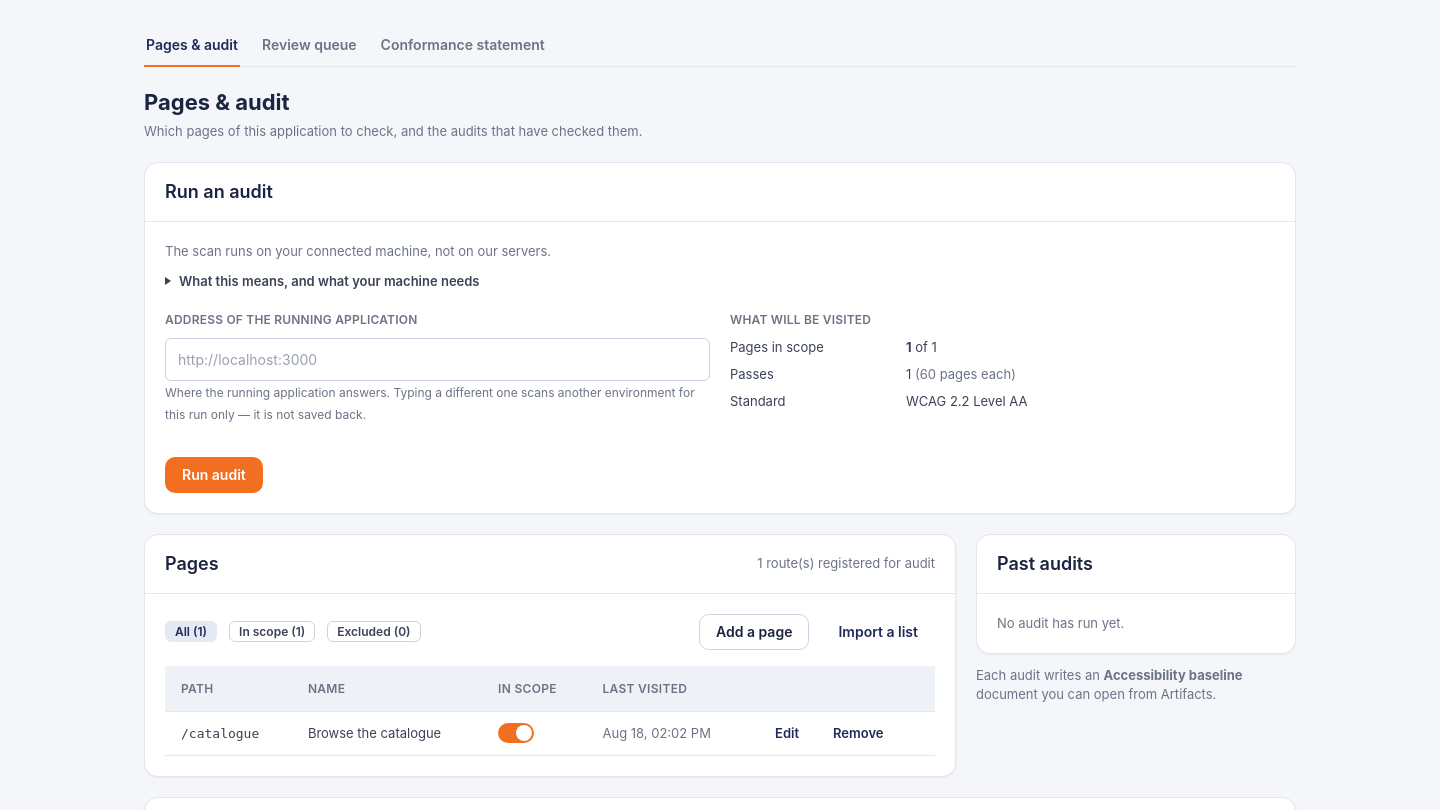
S-38 adding pages › shows what a paste would do before writing any of it
Click the button "Import a list": (878, 632) top-left (821, 614), bottom-right (935, 650)
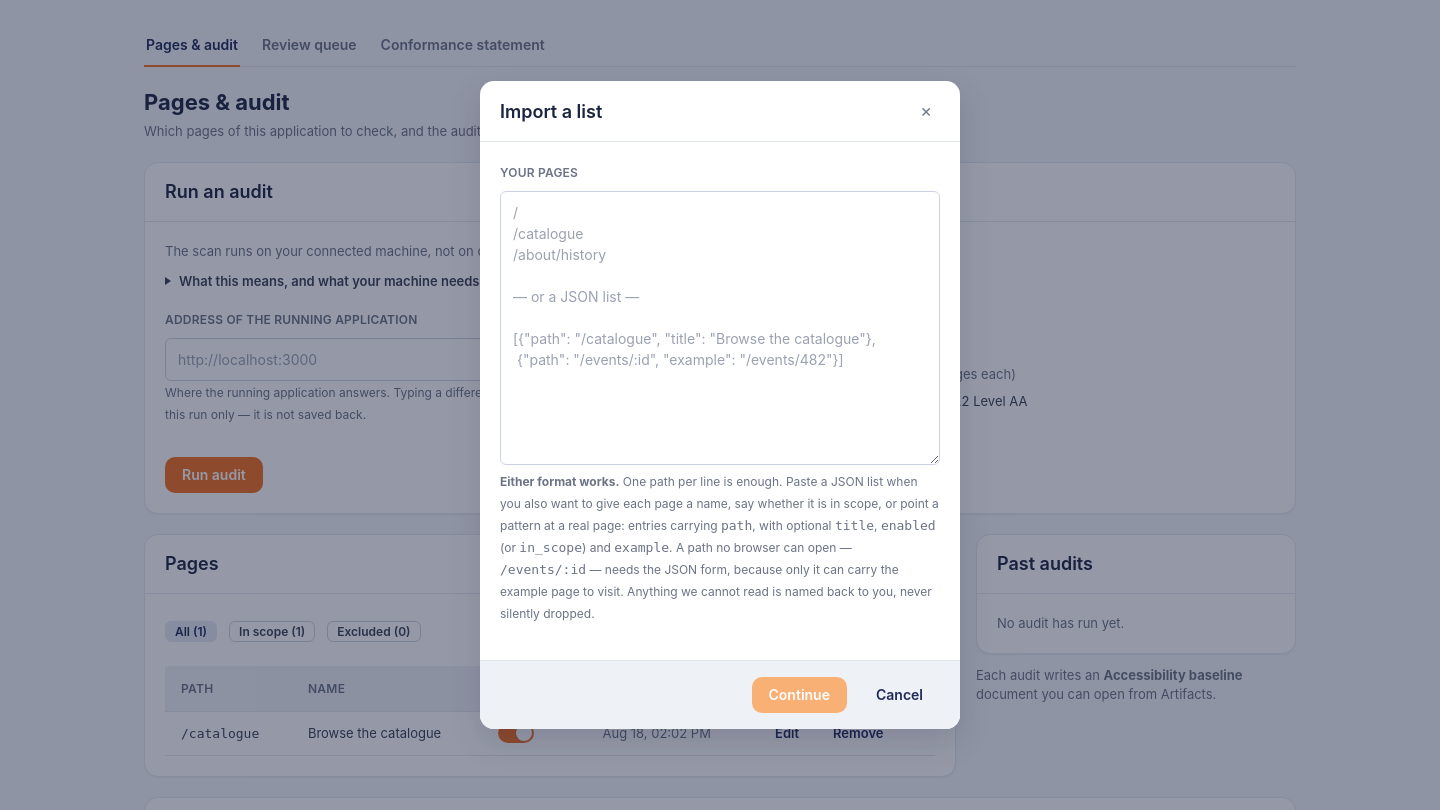
Click the text box labelled "Your pages": (720, 328) top-left (500, 191), bottom-right (940, 465)
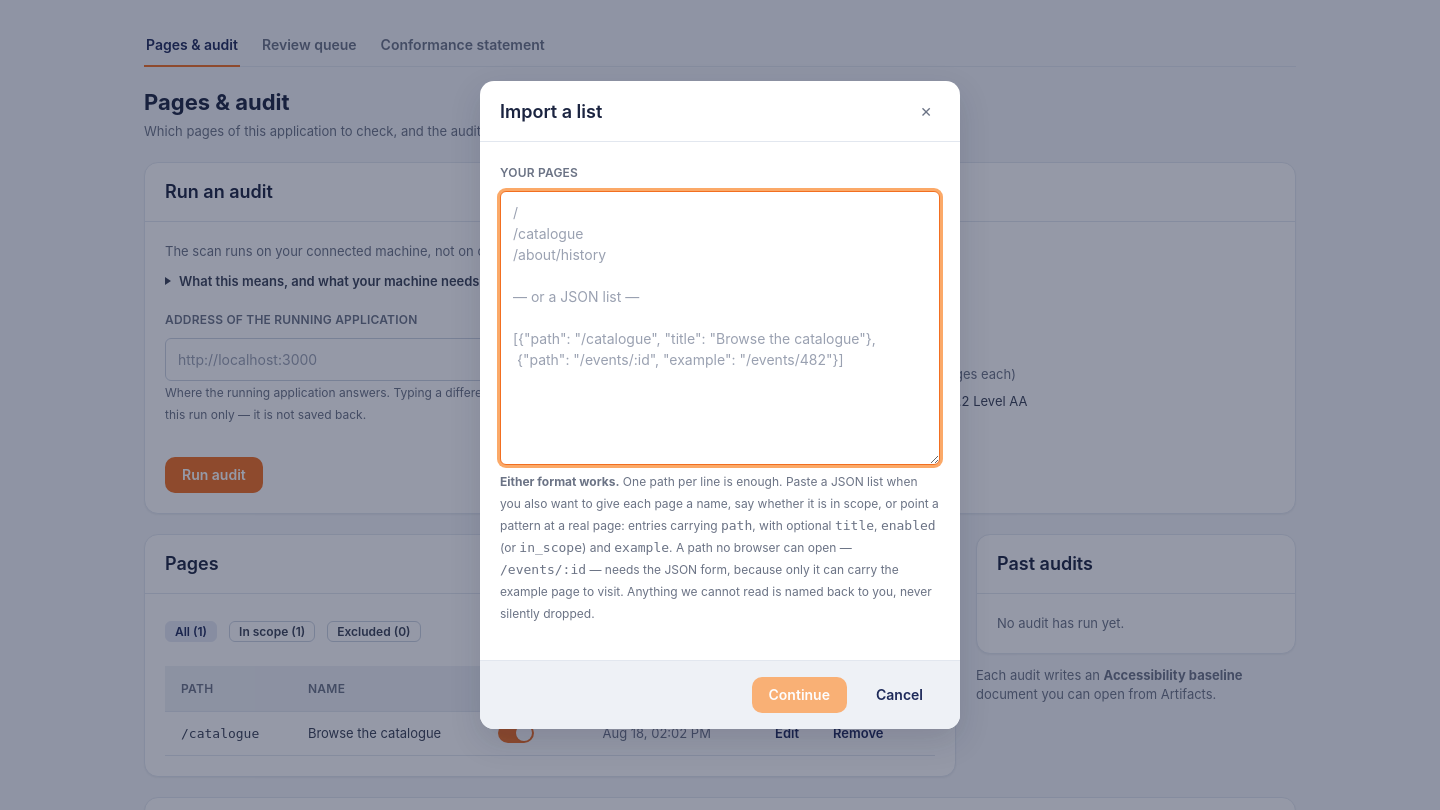
Type keys "[\"/\", \"/account/holds\", \"/catalogue/results\"]"
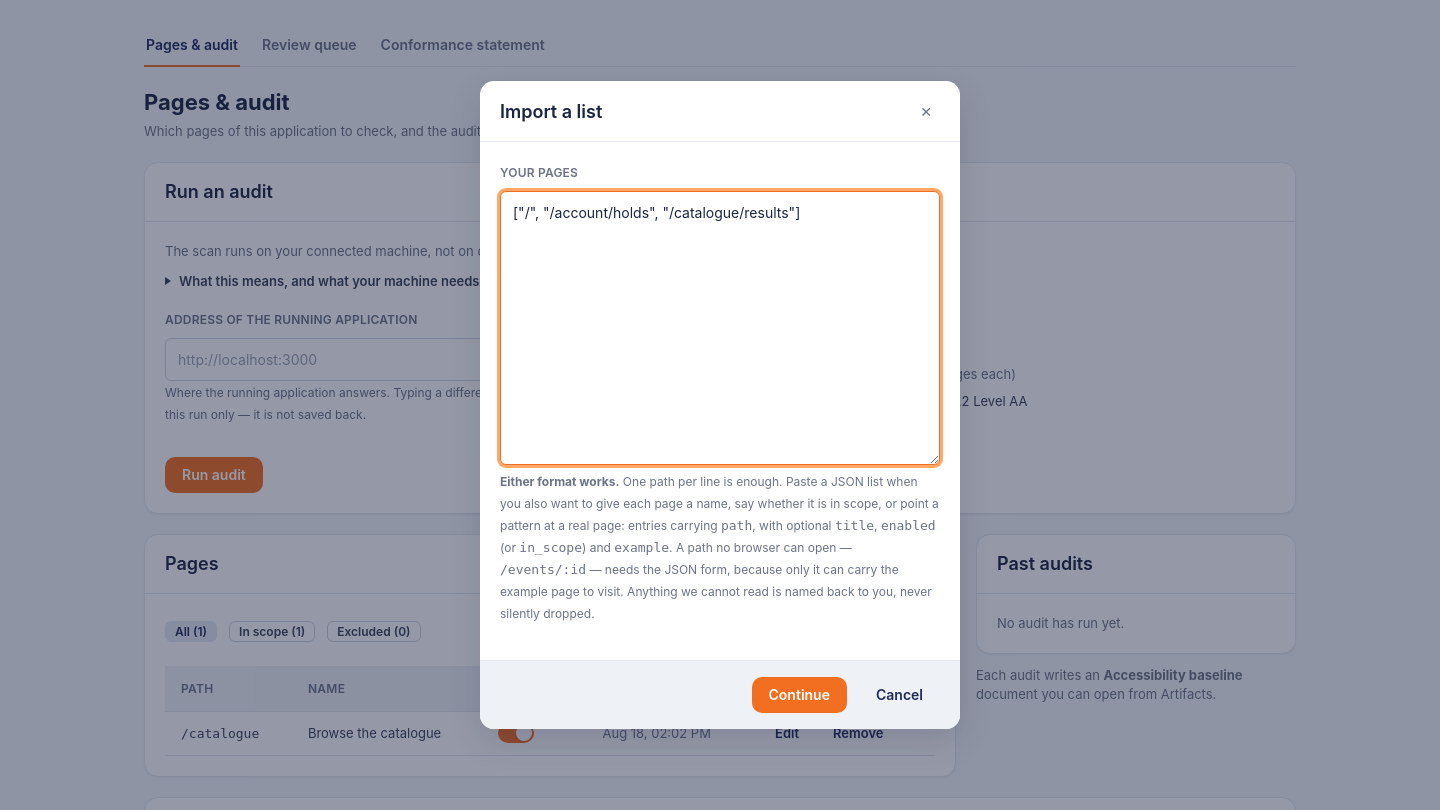
Click the button "Continue": (799, 695) top-left (752, 677), bottom-right (847, 713)
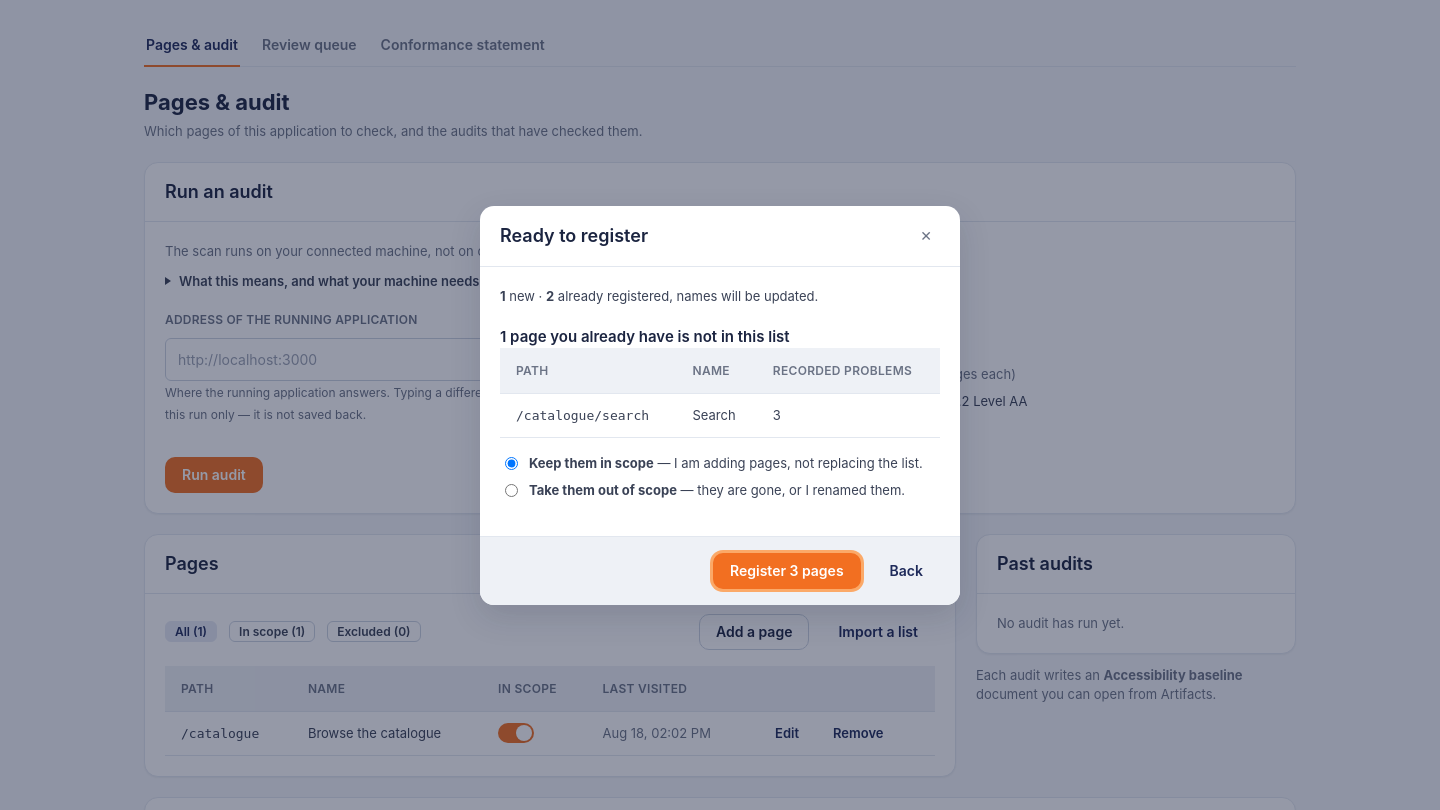
Expected: the text "/catalogue/search" is shown, top-left (516, 408), bottom-right (649, 422)
Expected: the heading "1 page you already have is not in this list" is shown, top-left (500, 326), bottom-right (790, 346)
Expected: the text "3" is shown, top-left (757, 393), bottom-right (940, 437)
